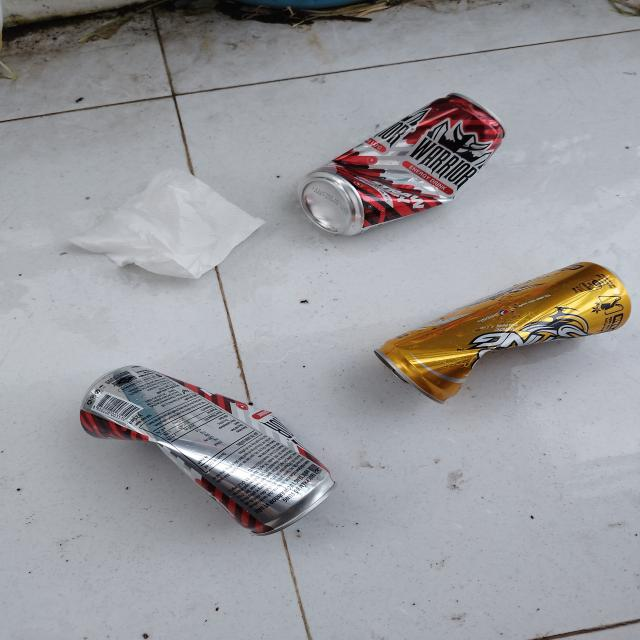can: (79, 362, 338, 538), (373, 259, 632, 407), (296, 90, 509, 237)
napkin: (65, 165, 268, 281)
